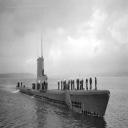submarine: (17, 57, 111, 119)
